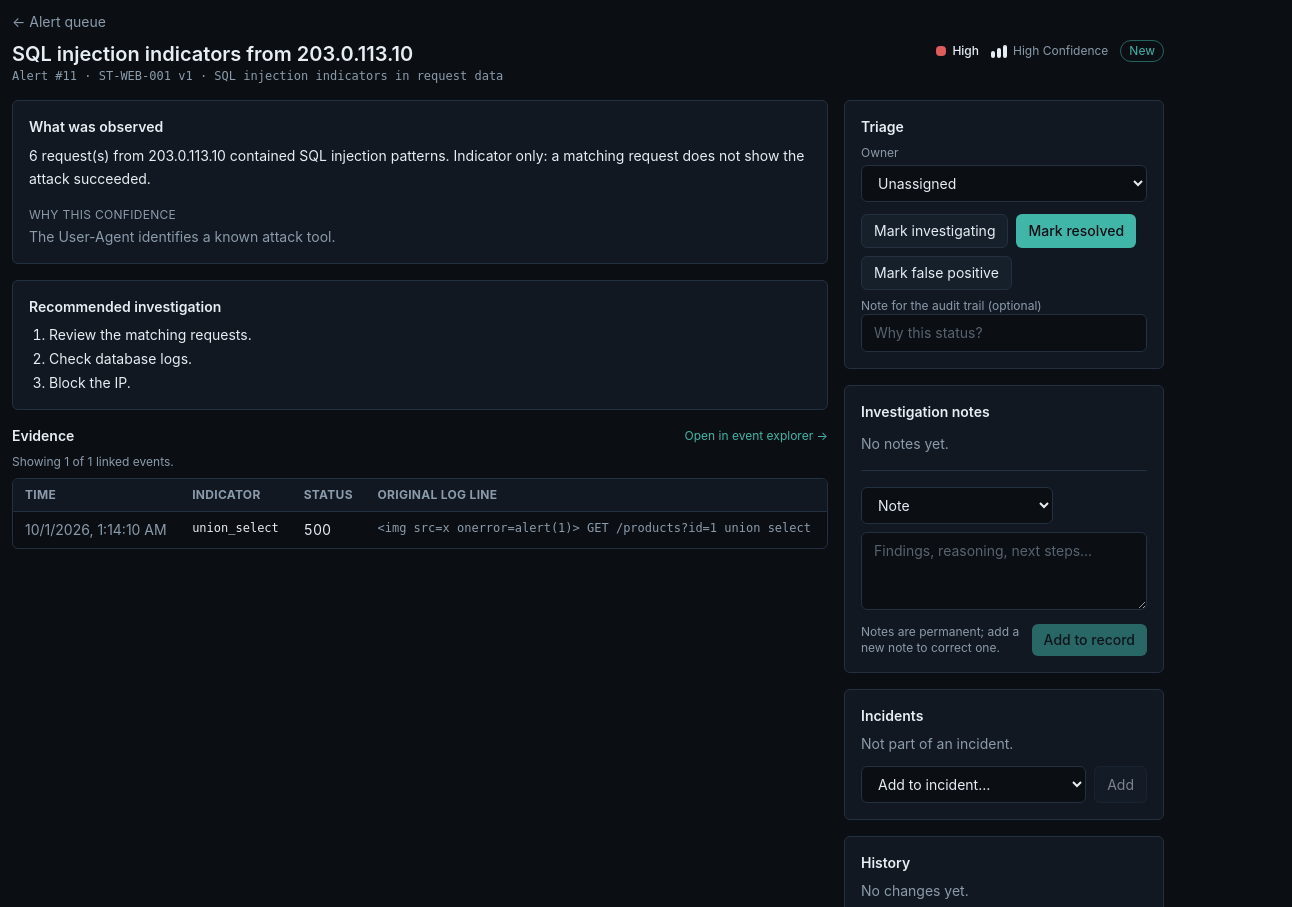
Scenario: AlertDetailPage › lets analysts change status with a note (CSRF header sent)
Type "benign scanner" into the field labelled "Note for the audit trail (optional)" at x=1004, y=333, box [861,314,1147,352]
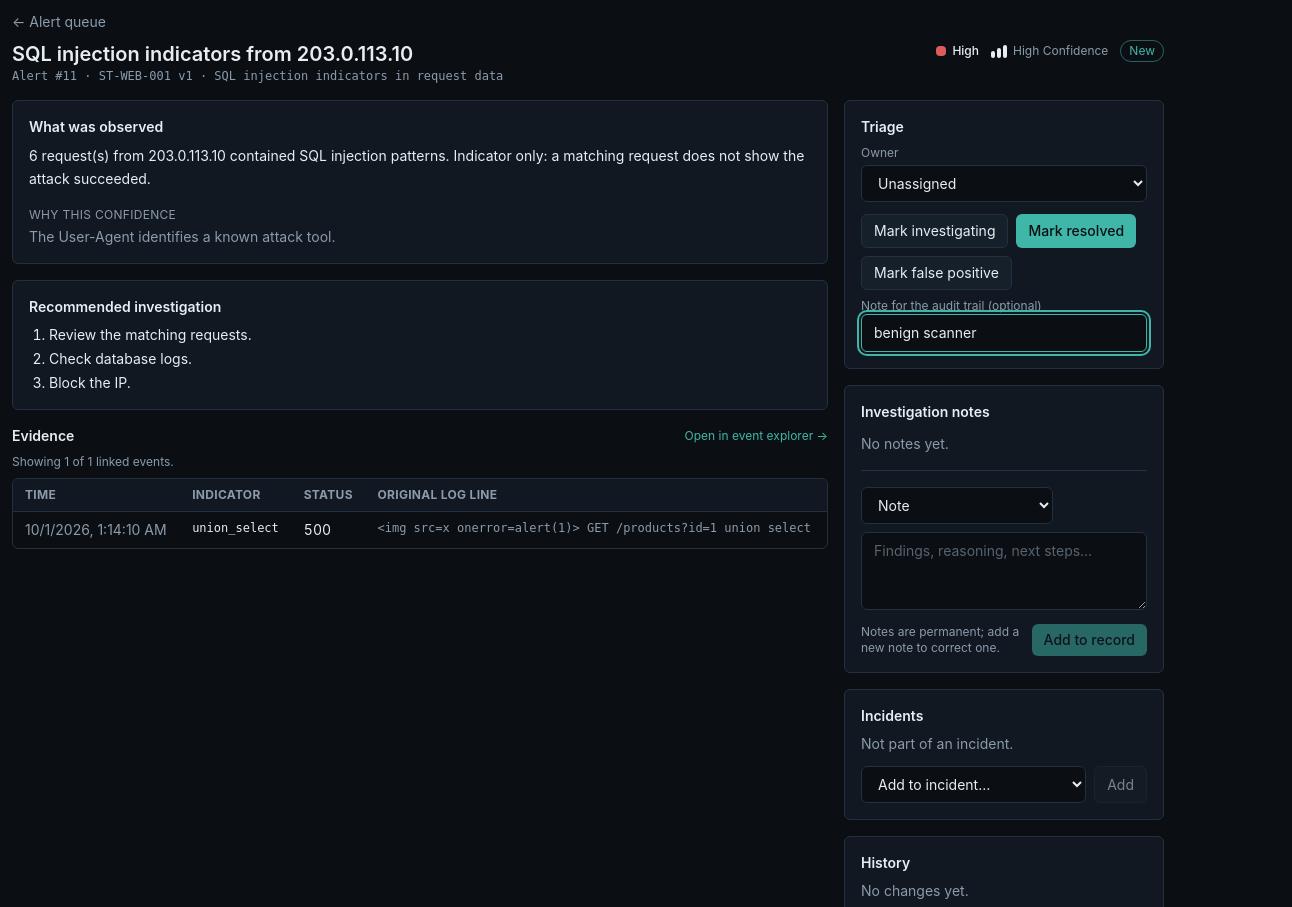
Click the button "Mark false positive" at x=936, y=273, box [861,256,1012,290]
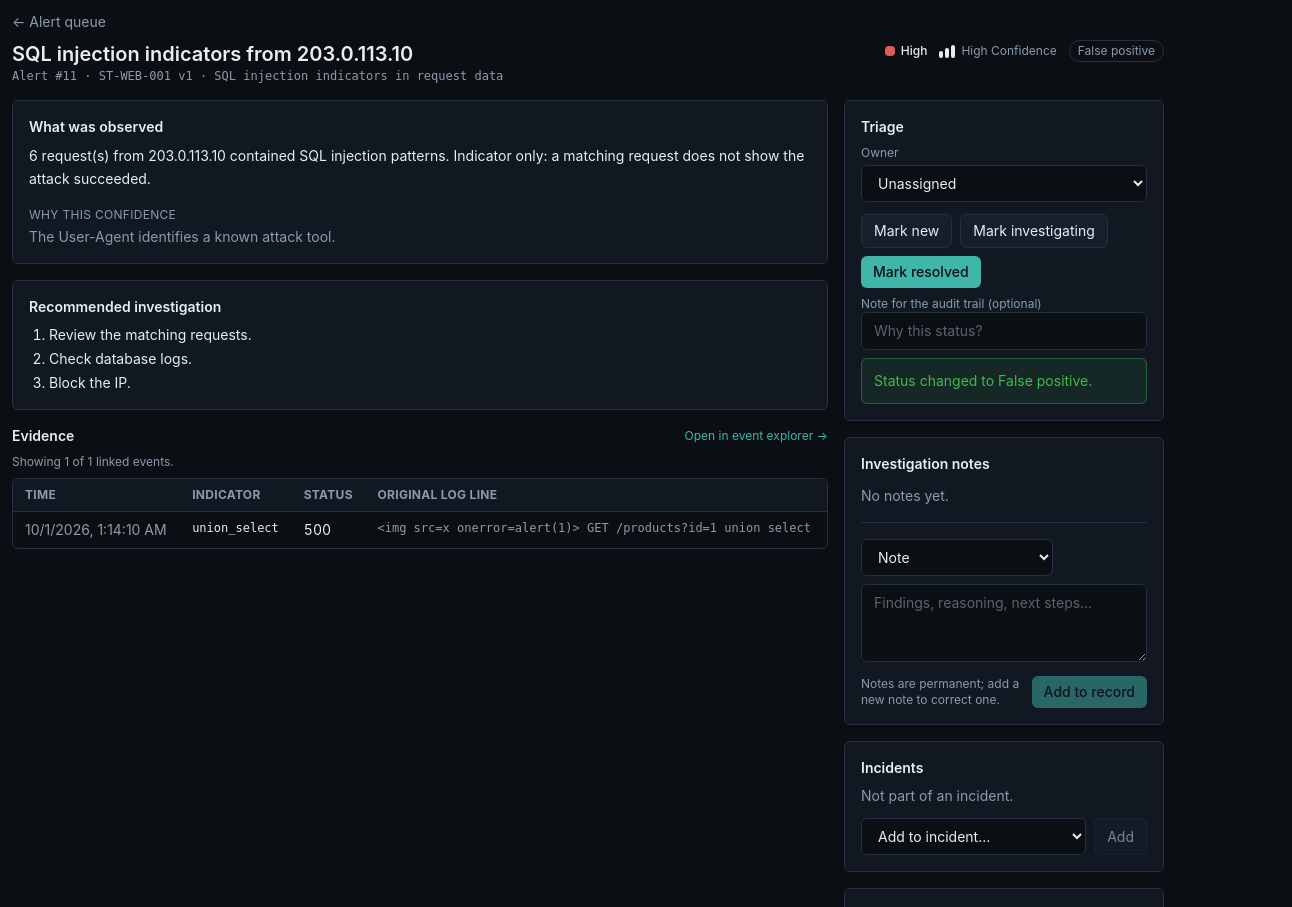
Expected: the text "Status changed to False positive." is shown, [861,358,1147,404]
Expected: the button "Mark false positive" is gone
